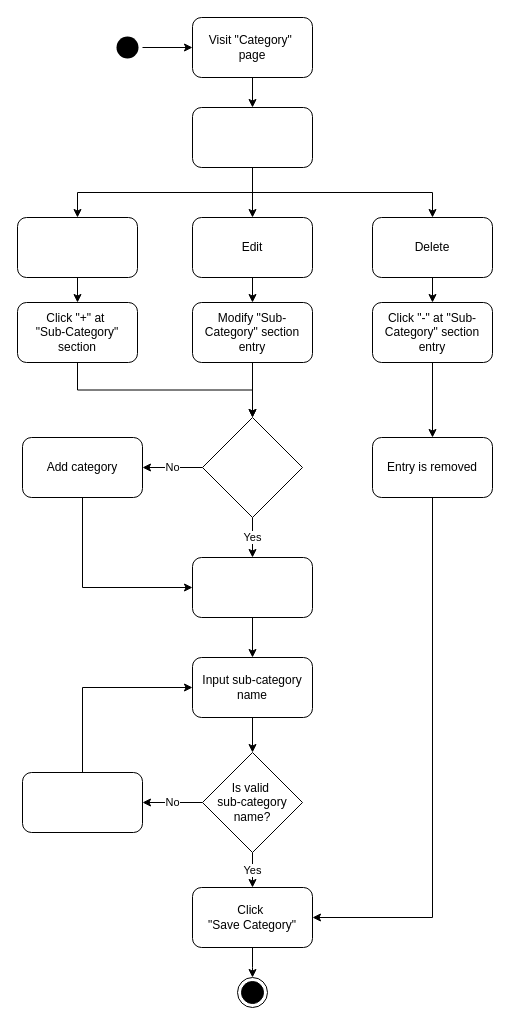
This 510x1025 diagram has some shape labels left out. Here are the shapes that lost their labels. From the top down, the box of each, then its label:
(192, 106, 312, 168): Click "Edit Category"
(16, 216, 138, 278): Add
(202, 416, 302, 518): Does category exist?
(192, 556, 312, 618): Select category
(22, 772, 142, 832): Rectify input
